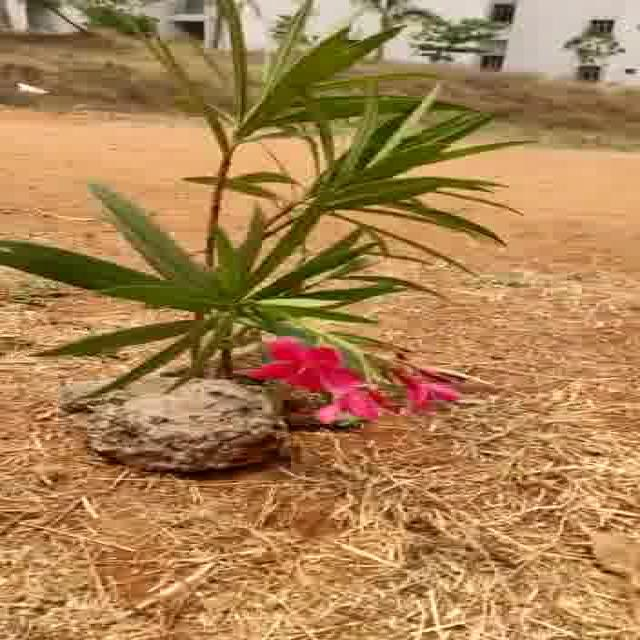Oleander: (110, 19, 512, 427)
